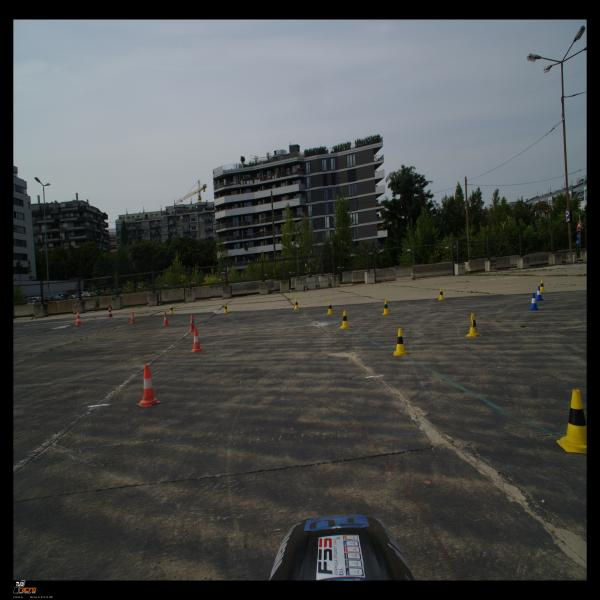blue_cone: (528, 293, 540, 310), (535, 286, 544, 301)
large_orange_cone: (74, 310, 82, 325), (106, 304, 113, 318)
orange_cone: (136, 364, 161, 407), (190, 329, 203, 352), (189, 315, 196, 332), (163, 312, 170, 326), (130, 312, 136, 324)
yellow_cone: (556, 389, 586, 454), (393, 328, 408, 356), (465, 313, 482, 337), (340, 310, 350, 329), (382, 300, 392, 315), (326, 301, 334, 315), (438, 288, 445, 300), (540, 280, 546, 292), (294, 299, 300, 310), (223, 303, 229, 313), (168, 306, 174, 314)
